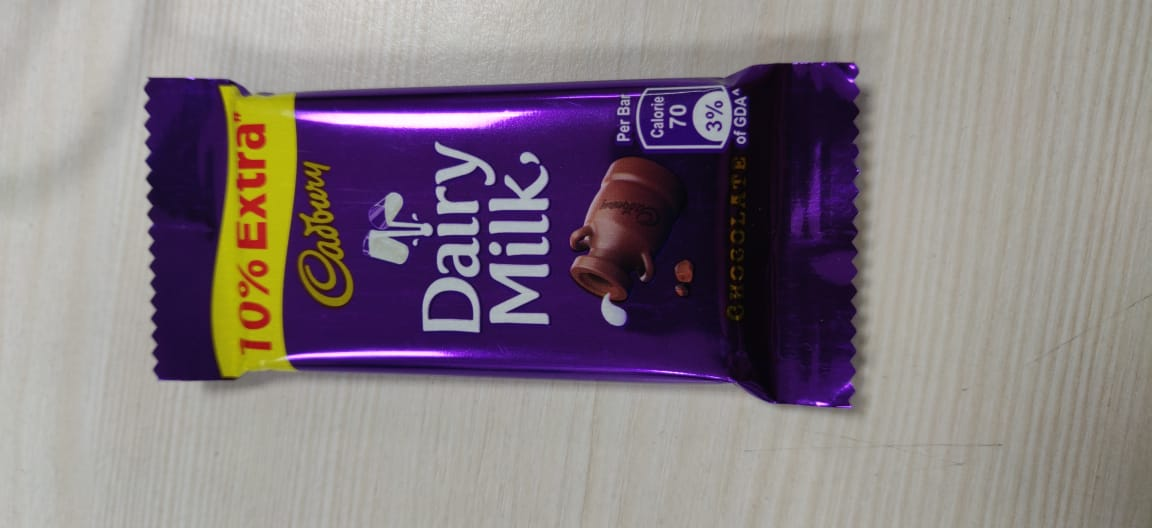dairy milk: (134, 57, 876, 430)
